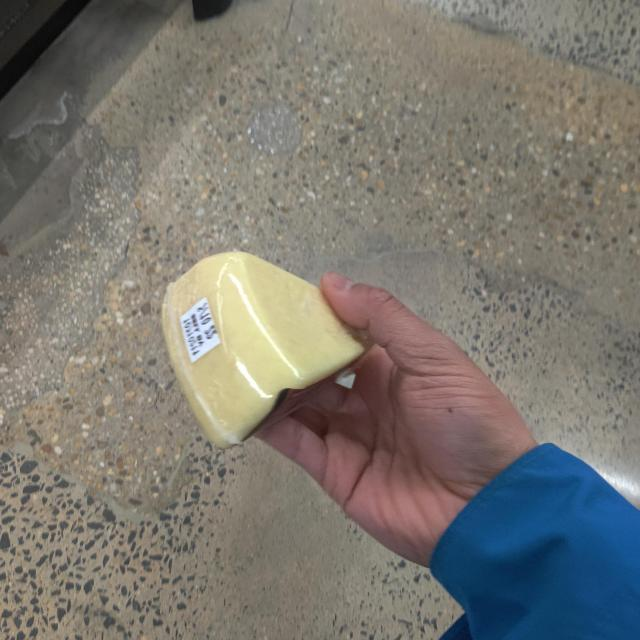cheese: (140, 229, 376, 444)
